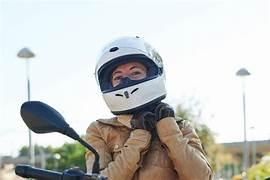Helmet: (95, 38, 165, 113)
